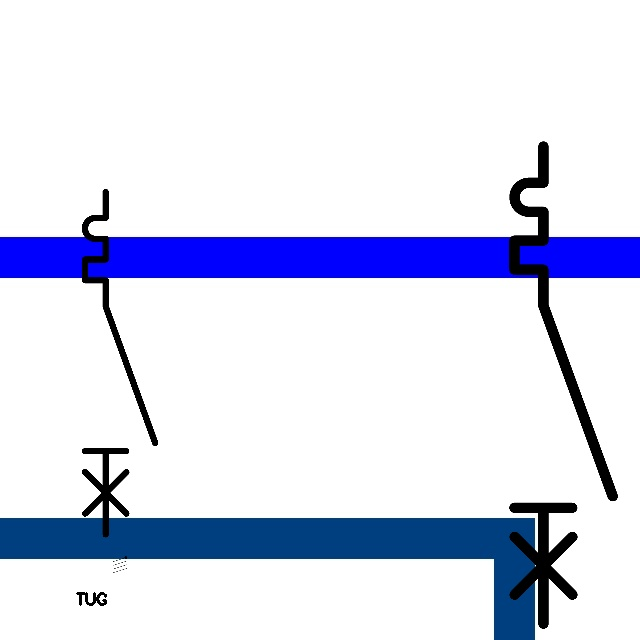interruptor_termomagnetico: (502, 134, 625, 636), (76, 183, 164, 543)
